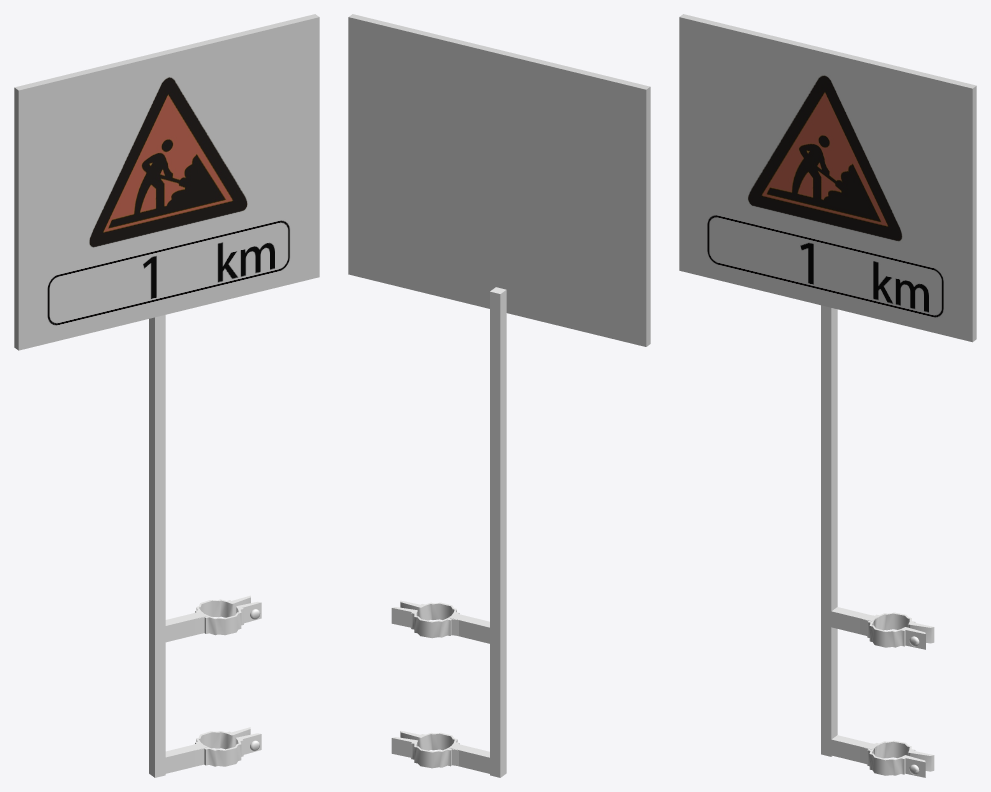
3 views of the same model, side by side, from view 1: azimuth 30°, elevation 25°; view 2: azimuth 150°, elevation 25°; view 3: azimuth 330°, elevation 25° (orthographic). The views are drawn at different scales.
Parts seen in each view (by area): view 1: 立方体.1-材质.4, 立方体, 立方体.1-材质.2, pCube31, pCube20, 立方体.1, 立方体.2; view 2: 立方体.1-材质.2, 立方体, pCube20, pCube31, 立方体.2, 立方体.1; view 3: 立方体.1-材质.4, 立方体, 立方体.1-材质.2, pCube31, pCube20, 立方体.2, 立方体.1.
Part boxes in pixels (left/top/right/bottom): 立方体.1-材质.4: left=18, top=17, right=319, bottom=350; 立方体: left=149, top=315, right=165, bottom=777; 立方体.1-材质.2: left=14, top=14, right=318, bottom=350; pCube31: left=194, top=595, right=261, bottom=635; pCube20: left=194, top=727, right=261, bottom=766; 立方体.1: left=165, top=611, right=206, bottom=642; 立方体.2: left=165, top=743, right=206, bottom=773; 立方体.1-材质.2: left=348, top=14, right=650, bottom=346; 立方体: left=490, top=287, right=506, bottom=777; pCube20: left=391, top=730, right=459, bottom=768; pCube31: left=391, top=600, right=459, bottom=638; 立方体.2: left=449, top=743, right=491, bottom=774; 立方体.1: left=449, top=613, right=491, bottom=644; 立方体.1-材质.4: left=679, top=17, right=972, bottom=342; 立方体: left=821, top=305, right=837, bottom=756; 立方体.1-材质.2: left=679, top=14, right=976, bottom=341; pCube31: left=860, top=612, right=934, bottom=649; pCube20: left=860, top=740, right=934, bottom=777; 立方体.2: left=831, top=735, right=877, bottom=762; 立方体.1: left=831, top=607, right=877, bottom=634.
Size of the model in its own units: 7.01 by 16.13 by 0.9508.
4 materials, 1 textured.
